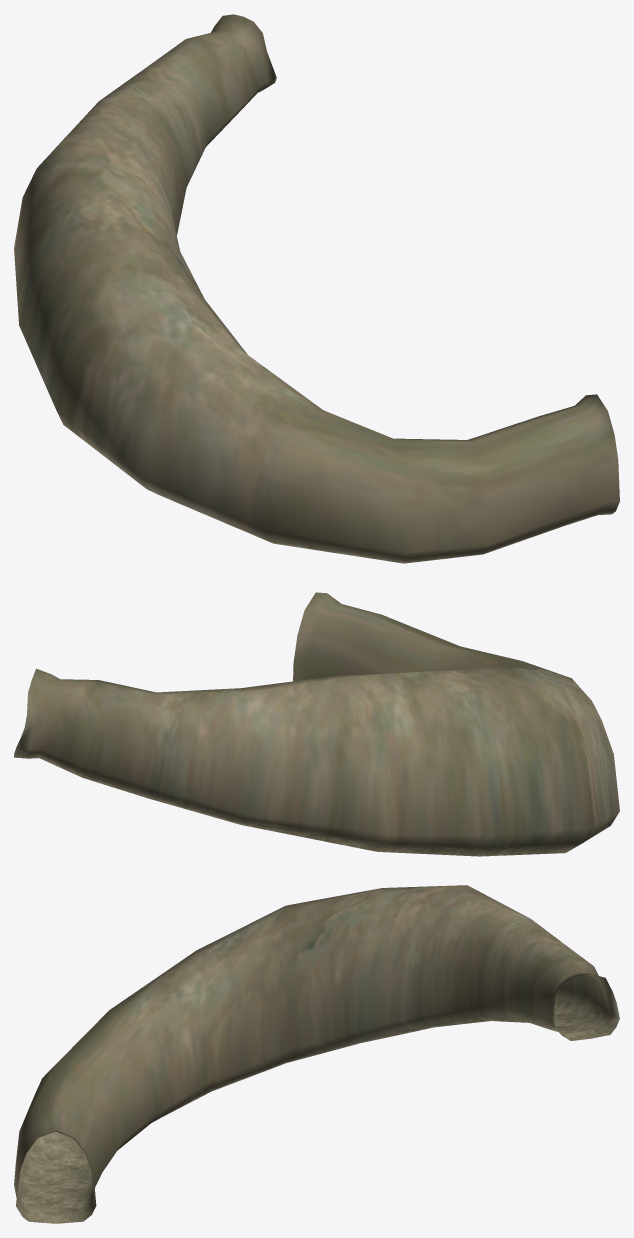
The model's file is EKH_JAIL_PS_JA_GR_LINE171.fbx.
3 renders of one model, top to bottom at view 1: azimuth 30°, elevation 25°; view 2: azimuth 150°, elevation 25°; view 3: azimuth 270°, elevation 25°, orthographic. The views are drawn at different scales.
Parts seen in each view (by area): view 1: EKH_JAIL_PS_JA_GR_LINE171; view 2: EKH_JAIL_PS_JA_GR_LINE171; view 3: EKH_JAIL_PS_JA_GR_LINE171.
Boxes of the visible parts, bbox=[...] form: EKH_JAIL_PS_JA_GR_LINE171: bbox=[14, 14, 619, 563]; EKH_JAIL_PS_JA_GR_LINE171: bbox=[14, 592, 619, 856]; EKH_JAIL_PS_JA_GR_LINE171: bbox=[14, 885, 619, 1223].
Bounding box in the file's own units: 128588 × 86451 × 198787.
1 material, 1 textured.
